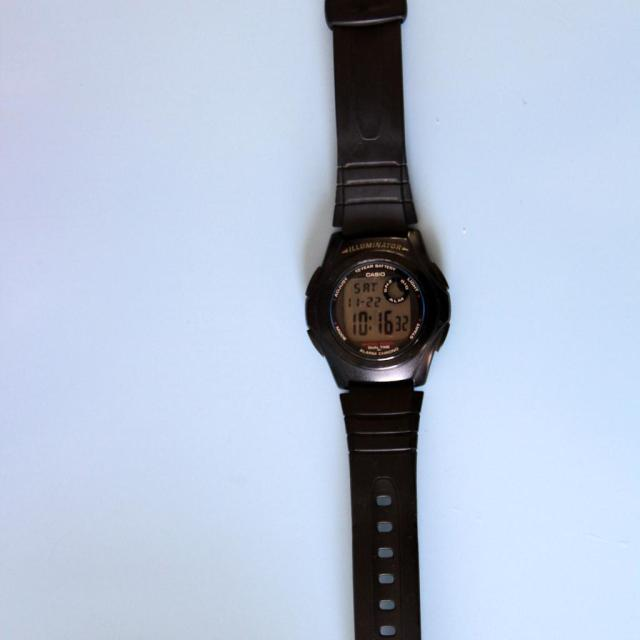Wrist watch: (304, 1, 450, 640)
